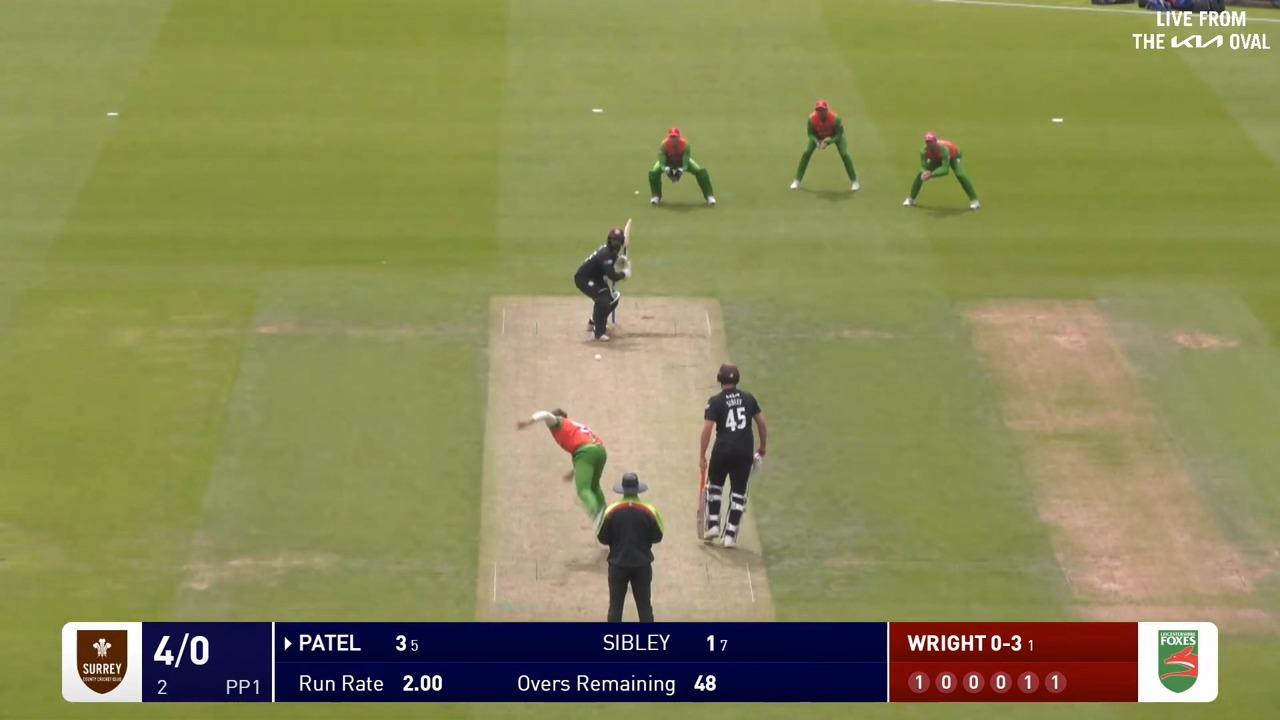sports ball: (595, 355, 601, 360)
